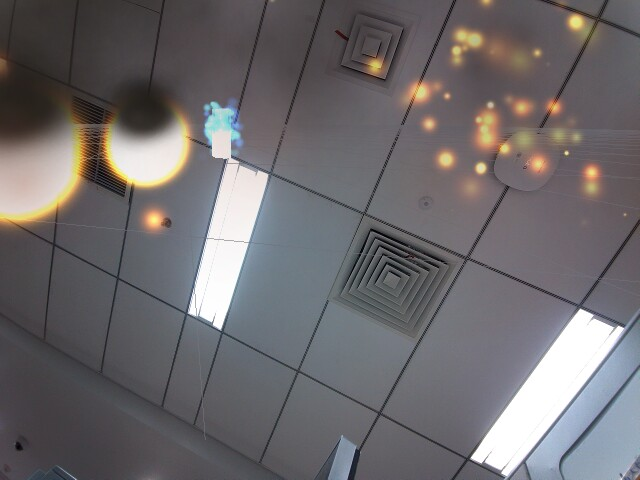fire: (0, 68, 88, 241), (99, 92, 196, 195)
